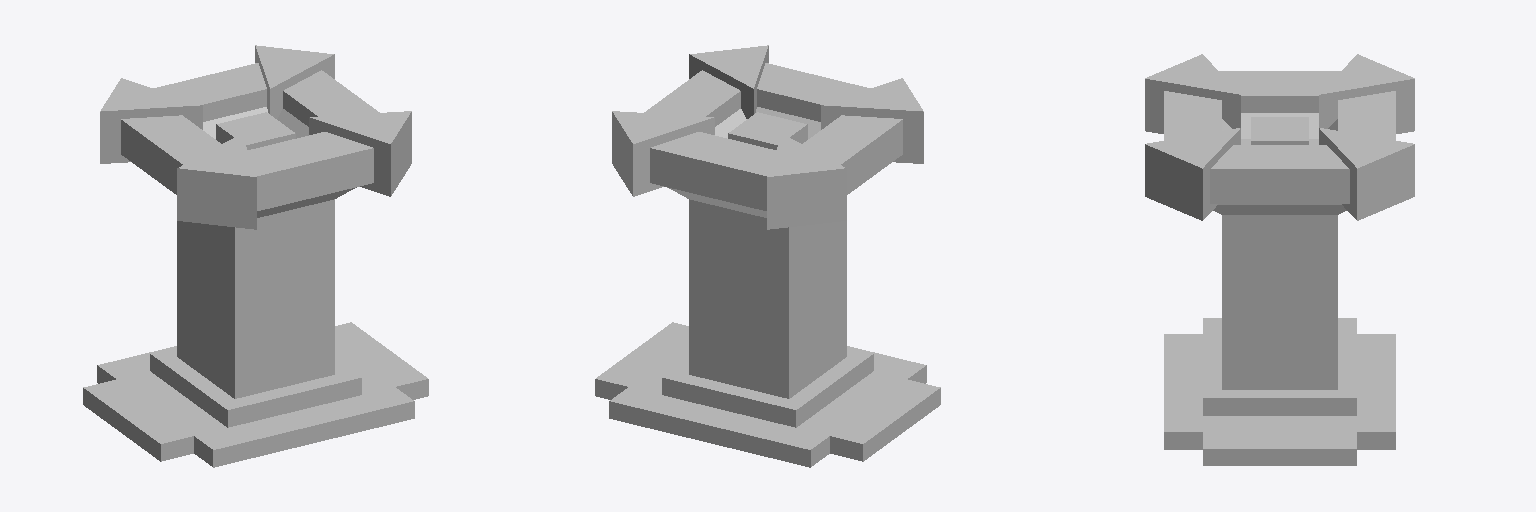
File: runeforge.obj
3 renders of one model, left to right at view 1: azimuth 30°, elevation 25°; view 2: azimuth 150°, elevation 25°; view 3: azimuth 270°, elevation 25°, orthographic.
Visible parts, largest first — view 1: CALEFACTOR_Cube.014; view 2: CALEFACTOR_Cube.014; view 3: CALEFACTOR_Cube.014.
Boxes of the visible parts, <box> form: CALEFACTOR_Cube.014: <box>83,45,428,467</box>; CALEFACTOR_Cube.014: <box>595,45,940,467</box>; CALEFACTOR_Cube.014: <box>1145,54,1414,465</box>.
Bounding box in the file's own units: 1 × 1.03 × 0.875.